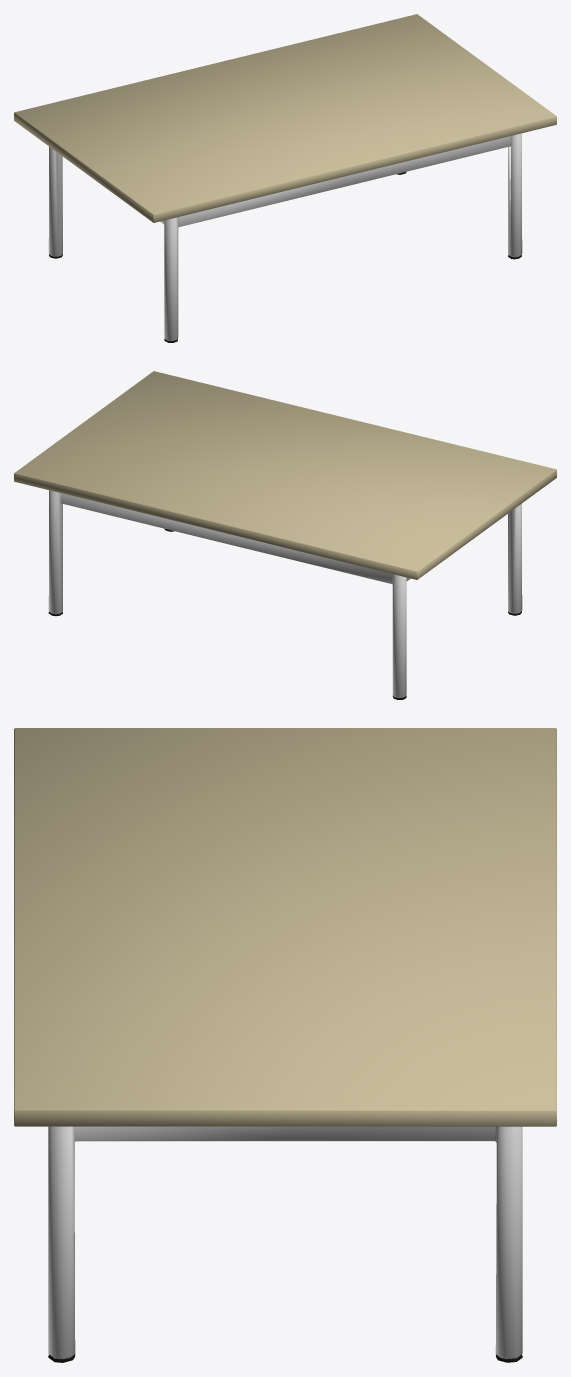
File: MshPropTable.fbx
The picture shows the model from 3 angles, top to bottom: view 1: azimuth 30°, elevation 25°; view 2: azimuth 150°, elevation 25°; view 3: azimuth 270°, elevation 25°; orthographic projection. The views are drawn at different scales.
Visible parts, largest first — view 1: TableMesh; view 2: TableMesh; view 3: TableMesh.
Part boxes in pixels (x1,y1,x2,y2): TableMesh: (14,14,556,342); TableMesh: (14,371,556,699); TableMesh: (14,728,556,1362).
Bounding box in the file's own units: 420 × 141 × 252.
